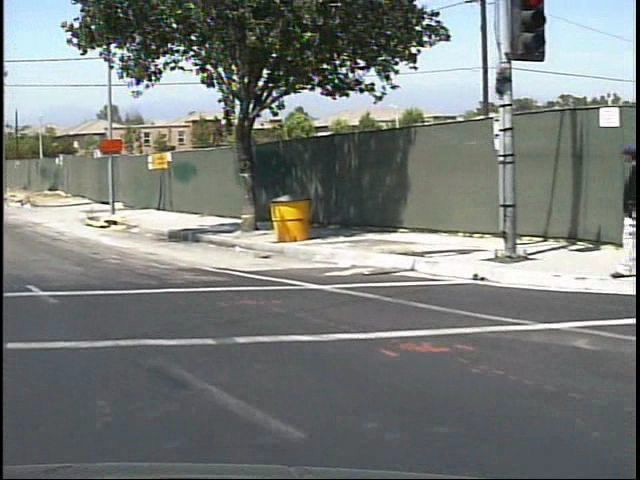person: (603, 141, 639, 289)
